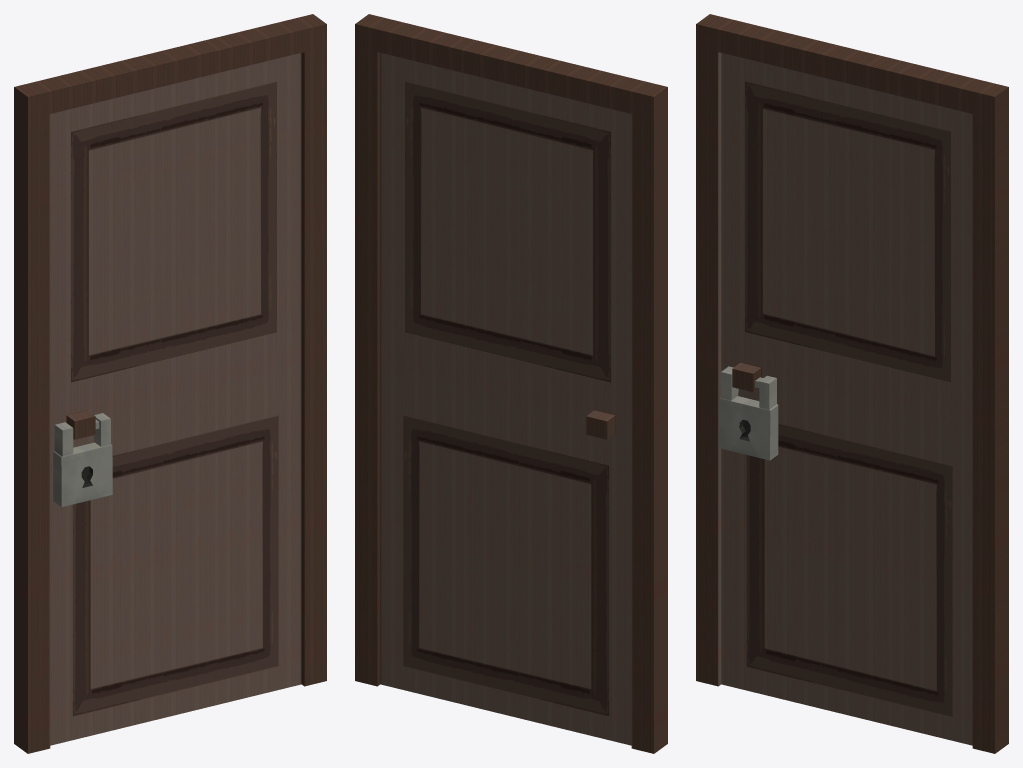
Rendered from 3dmodel_lockeddoor_v1_sc.fbx.
3 renders of one model, left to right at view 1: azimuth 30°, elevation 25°; view 2: azimuth 150°, elevation 25°; view 3: azimuth 330°, elevation 25°, orthographic.
Parts seen in each view (by area): view 1: door, lock; view 2: door; view 3: door, lock.
Boxes of the visible parts, bbox=[...] form: door: bbox=[14, 14, 326, 753]; lock: bbox=[53, 413, 112, 506]; door: bbox=[355, 14, 667, 753]; door: bbox=[696, 14, 1008, 753]; lock: bbox=[719, 366, 778, 460].
Bounding box in the file's own units: 1 × 2.1 × 0.143.
